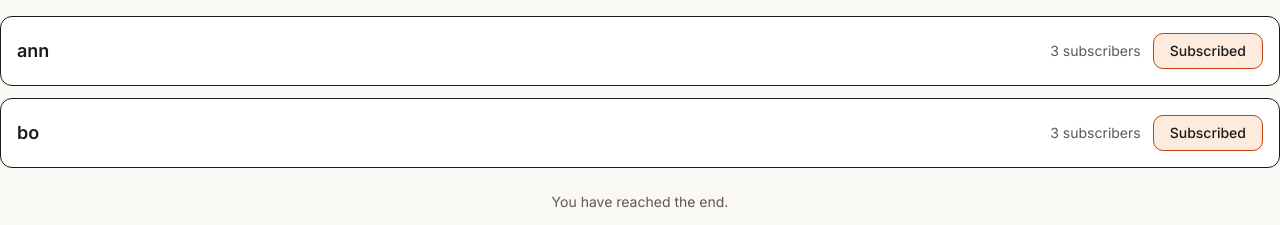
it: SubscriptionList › offers Try again when Undo fails, and the row stays away
Click the button "Subscribed" in the row of "ann" at (1208, 51), box [1153, 33, 1263, 69]
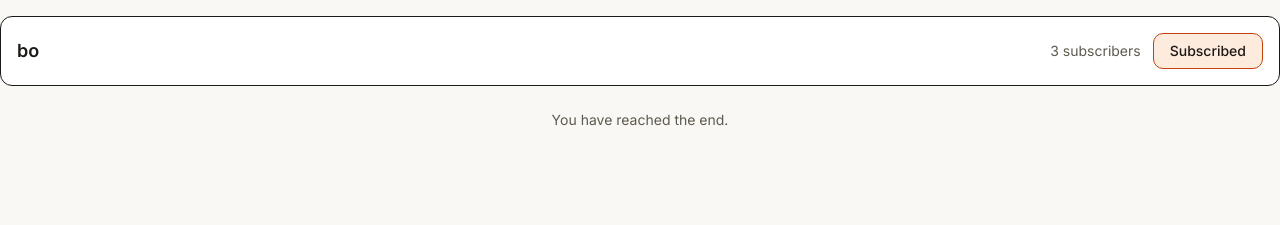
Expected: the link "ann" is gone
